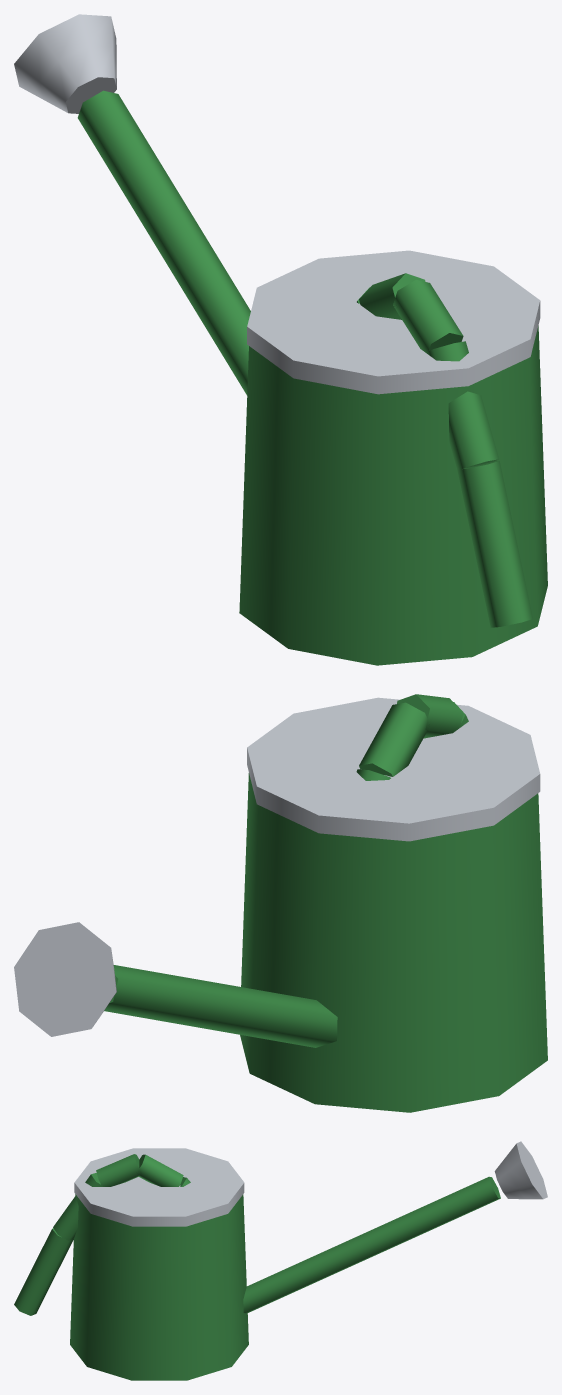
Rendered from tool_can.glb.
3 renders of one model, top to bottom at view 1: azimuth 30°, elevation 25°; view 2: azimuth 150°, elevation 25°; view 3: azimuth 270°, elevation 25°, orthographic. The views are drawn at different scales.
Parts seen in each view (by area): view 1: _MeshInstance3D_1279, _MeshInstance3D_1280, _MeshInstance3D_1281, _MeshInstance3D_1282, _MeshInstance3D_1283, _MeshInstance3D_1284, _MeshInstance3D_1285, _MeshInstance3D_1286; view 2: _MeshInstance3D_1279, _MeshInstance3D_1280, _MeshInstance3D_1281, _MeshInstance3D_1282, _MeshInstance3D_1286, _MeshInstance3D_1285; view 3: _MeshInstance3D_1279, _MeshInstance3D_1280, _MeshInstance3D_1281, _MeshInstance3D_1283, _MeshInstance3D_1282, _MeshInstance3D_1285, _MeshInstance3D_1286, _MeshInstance3D_1284.
Boxes of the visible parts, left/top/right/bottom form: _MeshInstance3D_1279: left=239, top=325, right=547, bottom=665; _MeshInstance3D_1280: left=247, top=250, right=540, bottom=394; _MeshInstance3D_1281: left=77, top=90, right=250, bottom=395; _MeshInstance3D_1282: left=14, top=14, right=116, bottom=113; _MeshInstance3D_1283: left=457, top=461, right=532, bottom=627; _MeshInstance3D_1284: left=425, top=341, right=498, bottom=469; _MeshInstance3D_1285: left=393, top=279, right=463, bottom=352; _MeshInstance3D_1286: left=359, top=273, right=425, bottom=319; _MeshInstance3D_1279: left=240, top=773, right=547, bottom=1112; _MeshInstance3D_1280: left=247, top=697, right=540, bottom=841; _MeshInstance3D_1281: left=104, top=965, right=337, bottom=1047; _MeshInstance3D_1282: left=14, top=922, right=116, bottom=1036; _MeshInstance3D_1286: left=359, top=702, right=429, bottom=776; _MeshInstance3D_1285: left=397, top=694, right=463, bottom=738; _MeshInstance3D_1279: left=70, top=1194, right=248, bottom=1380; _MeshInstance3D_1280: left=74, top=1148, right=244, bottom=1226; _MeshInstance3D_1281: left=243, top=1176, right=500, bottom=1313; _MeshInstance3D_1283: left=14, top=1228, right=73, bottom=1315; _MeshInstance3D_1282: left=494, top=1141, right=547, bottom=1199; _MeshInstance3D_1285: left=96, top=1154, right=141, bottom=1186; _MeshInstance3D_1286: left=137, top=1154, right=183, bottom=1186; _MeshInstance3D_1284: left=53, top=1173, right=104, bottom=1240.
Size of the model in its own units: 0.1522 by 0.1985 by 0.4773.
